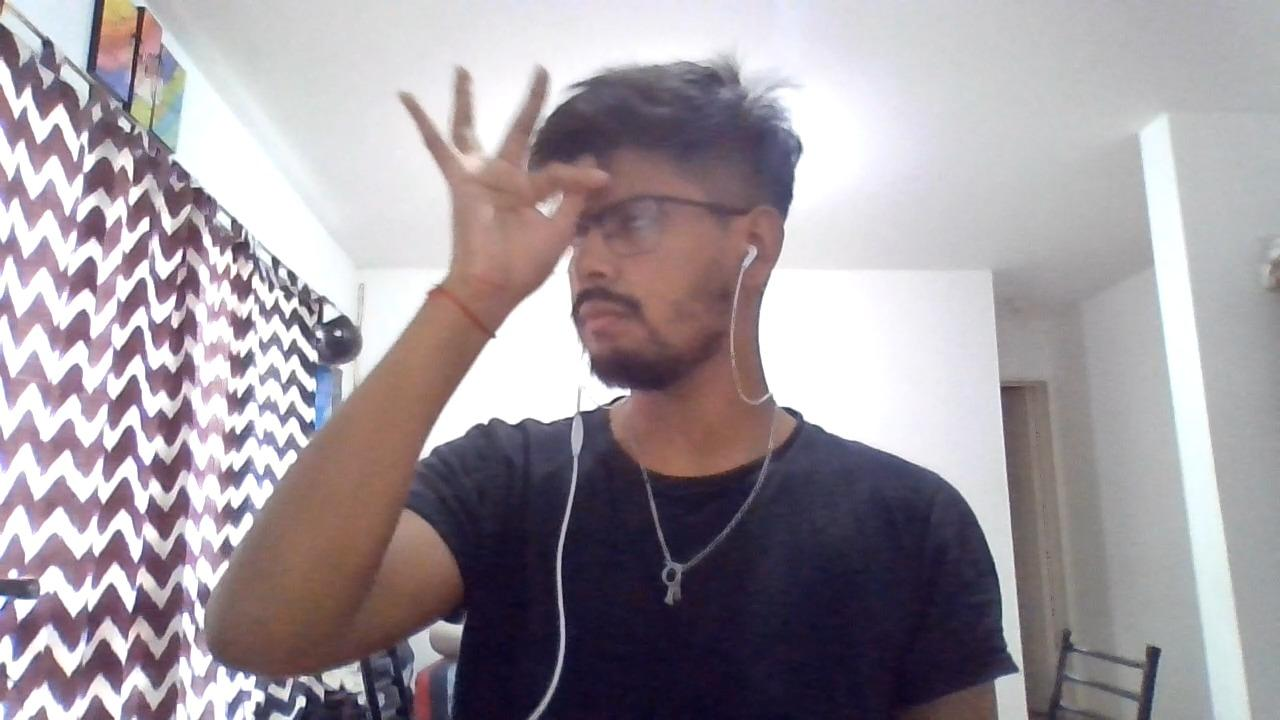Hospital: (226, 36, 947, 639)
